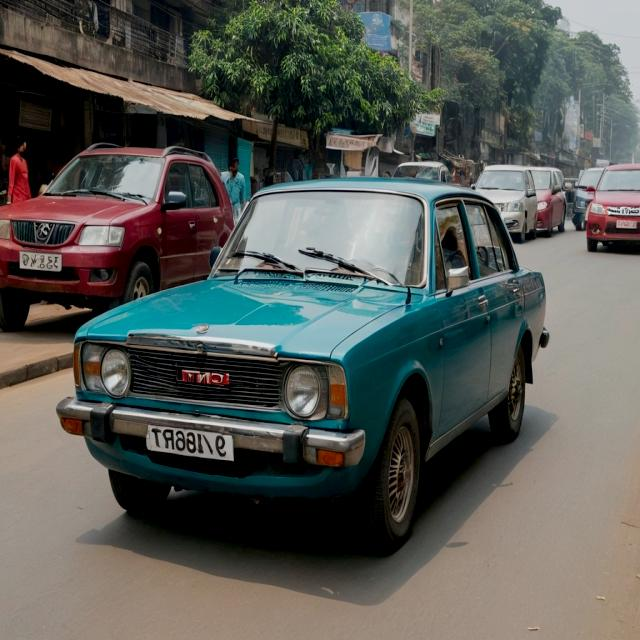blue: (67, 170, 554, 530)
maroon: (0, 142, 243, 331), (583, 162, 640, 262)
silver: (472, 157, 544, 235)
